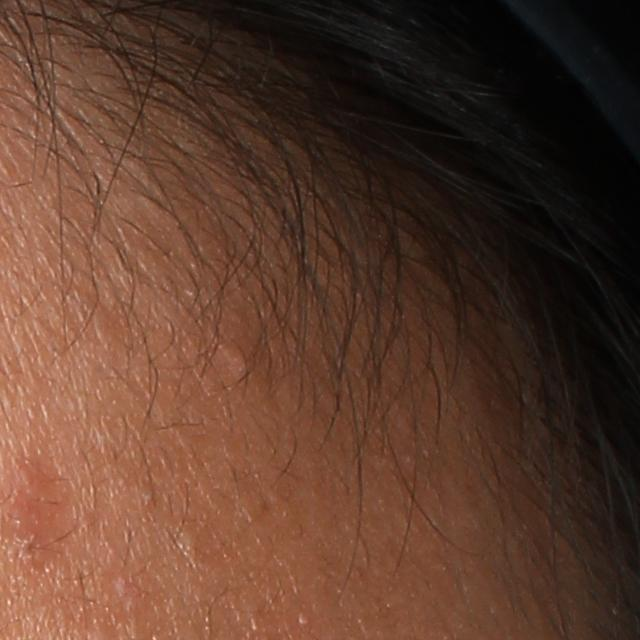comedo: (222, 334, 265, 382), (173, 516, 204, 554)
